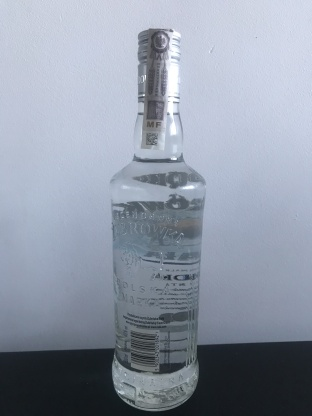nakretka: (134, 24, 183, 106)
